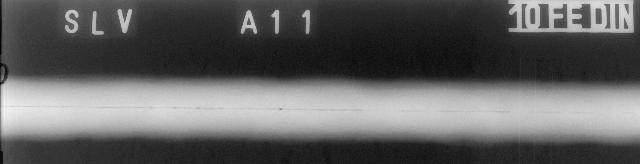FP: (1, 100, 636, 120)
